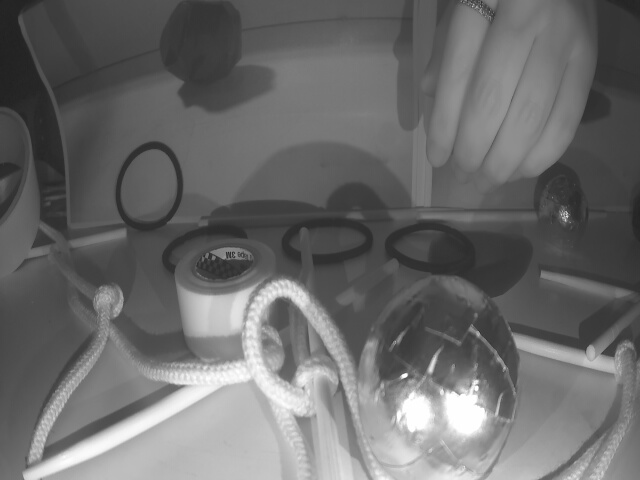Live: (357, 274, 518, 480), (536, 174, 585, 240)
